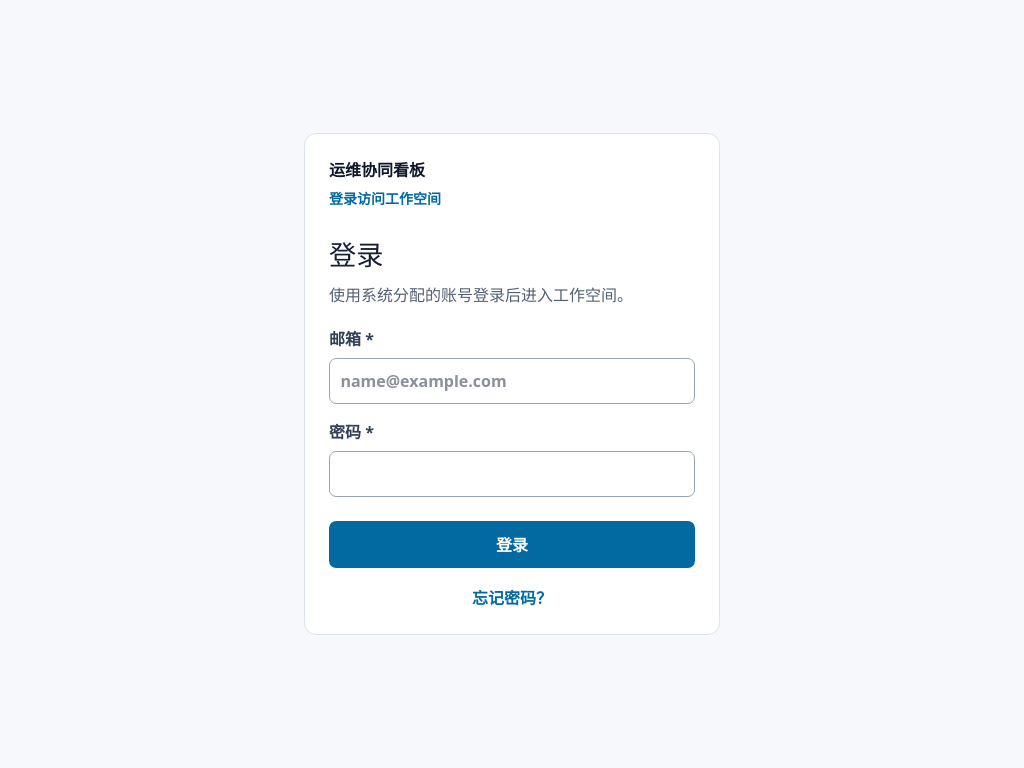
Scenario: 受保护路由 › 登录后安全返回原目标 /projects
This screenshot has width=1024, height=768.
In the field labelled "邮箱 *": x=512, y=381 [329, 358, 695, 404], type "a@example.com"
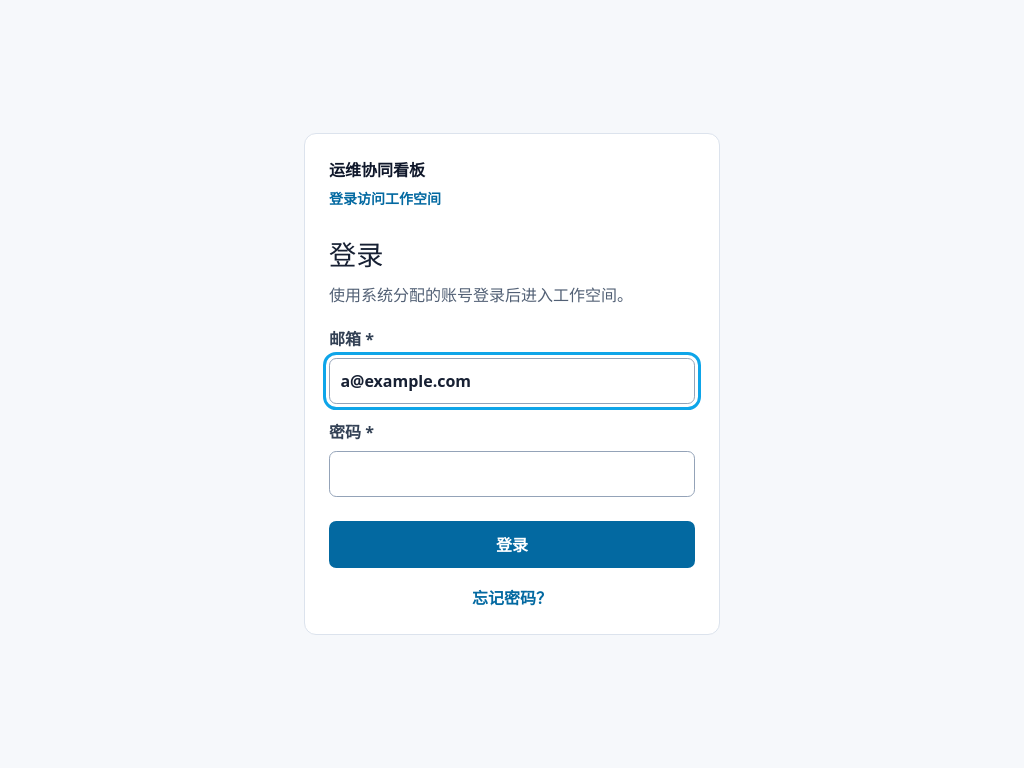
In the password field labelled "密码 *": x=512, y=474 [329, 451, 695, 498], type "secret-password"
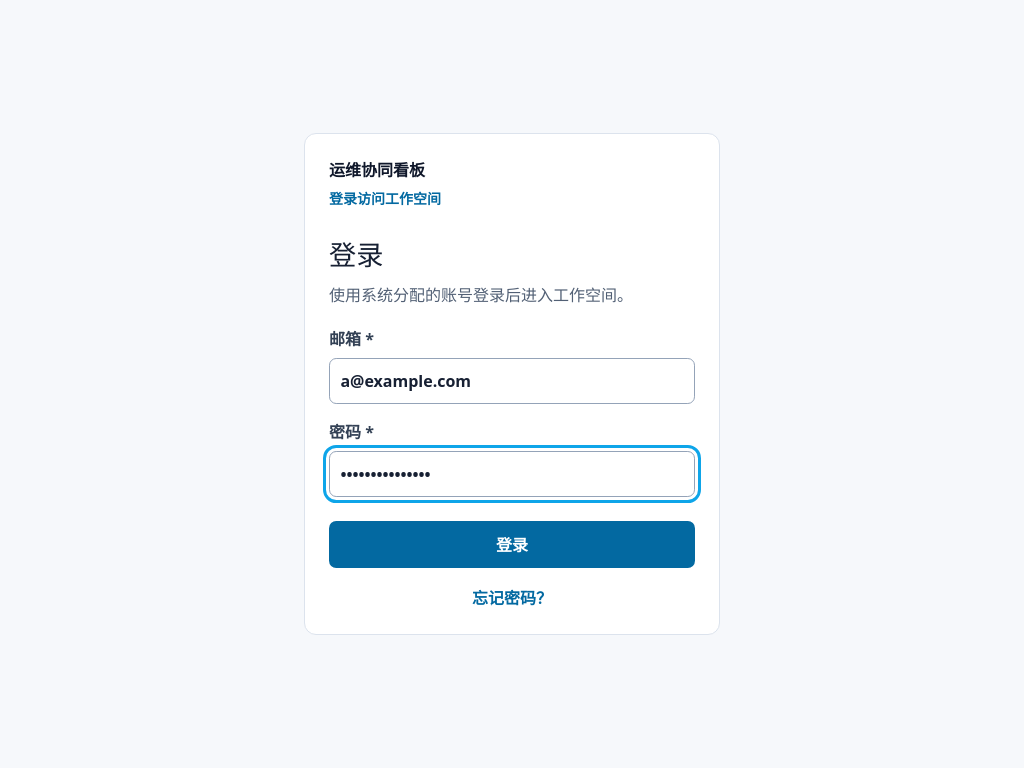
Click the button "登录": x=512, y=545 [329, 522, 695, 568]
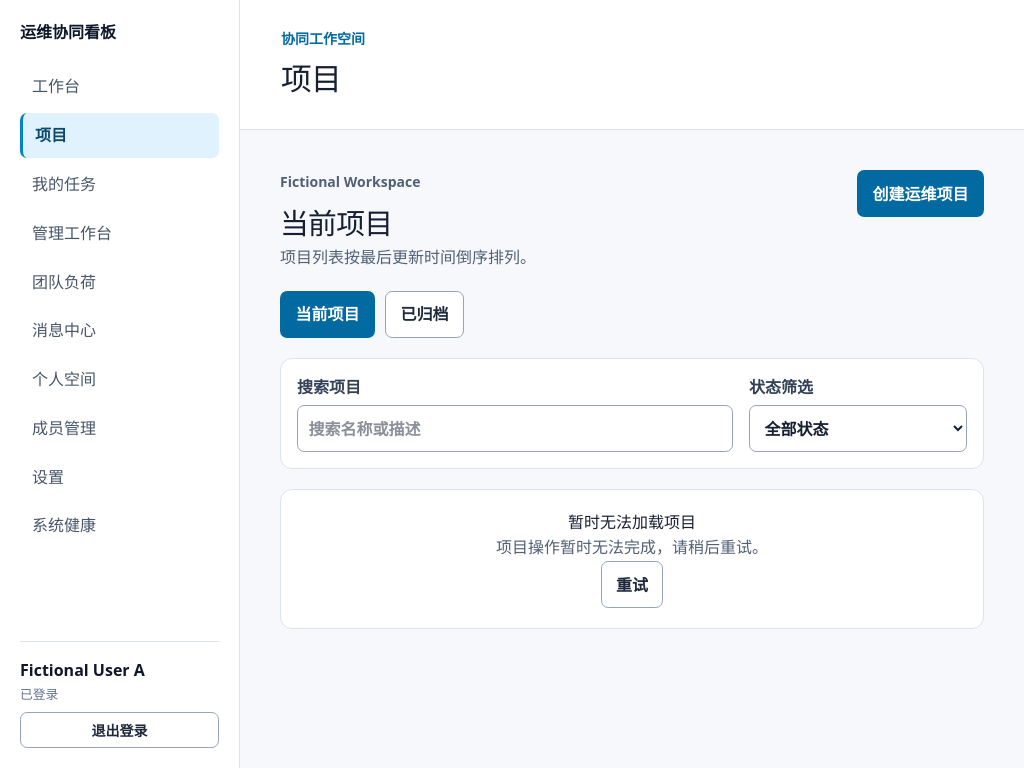
Result: the heading "项目" is shown at [281, 57, 341, 99]
